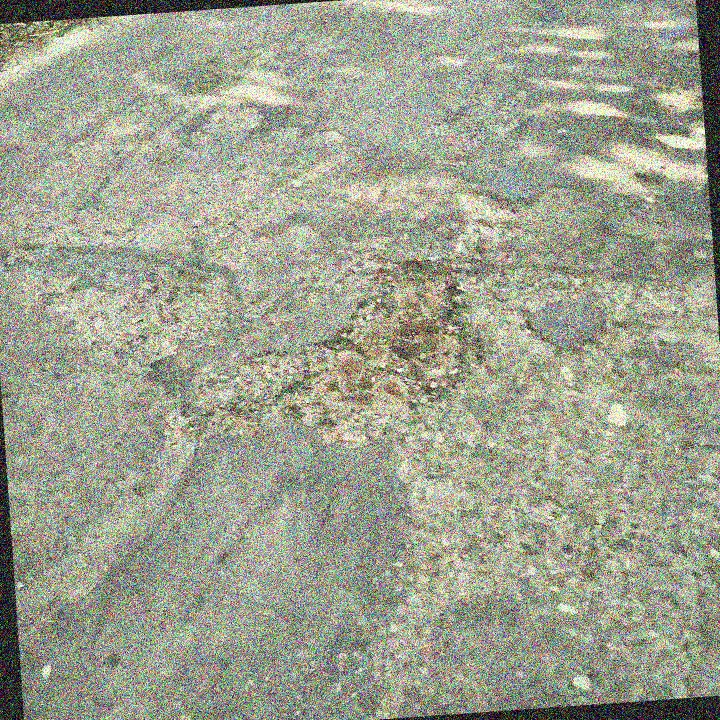pothole: (275, 247, 488, 446)
